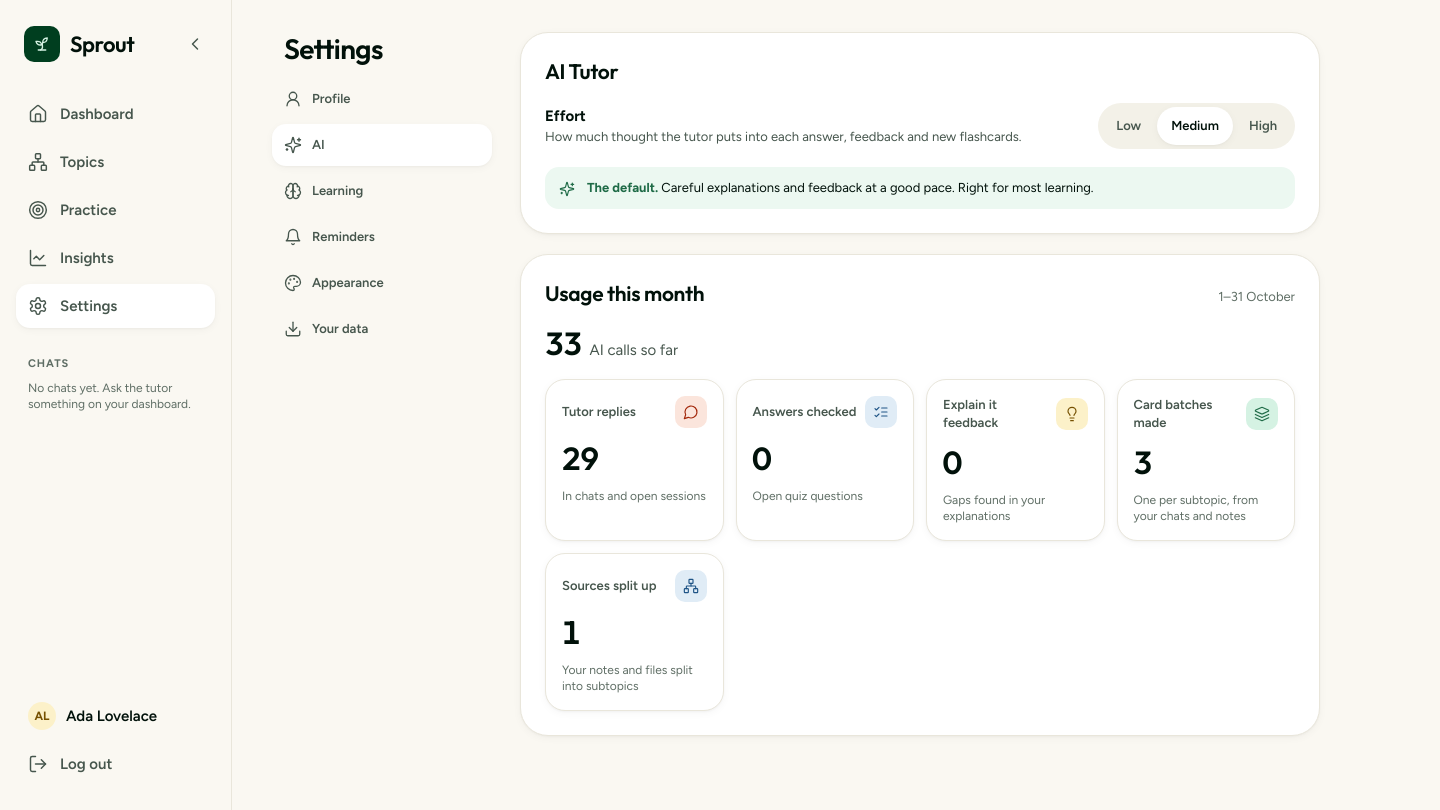
Test: AiSettings › saves a new effort straight away
Click the tab with test id "tab-high" at point(1263, 126), box [1235,107,1291,145]
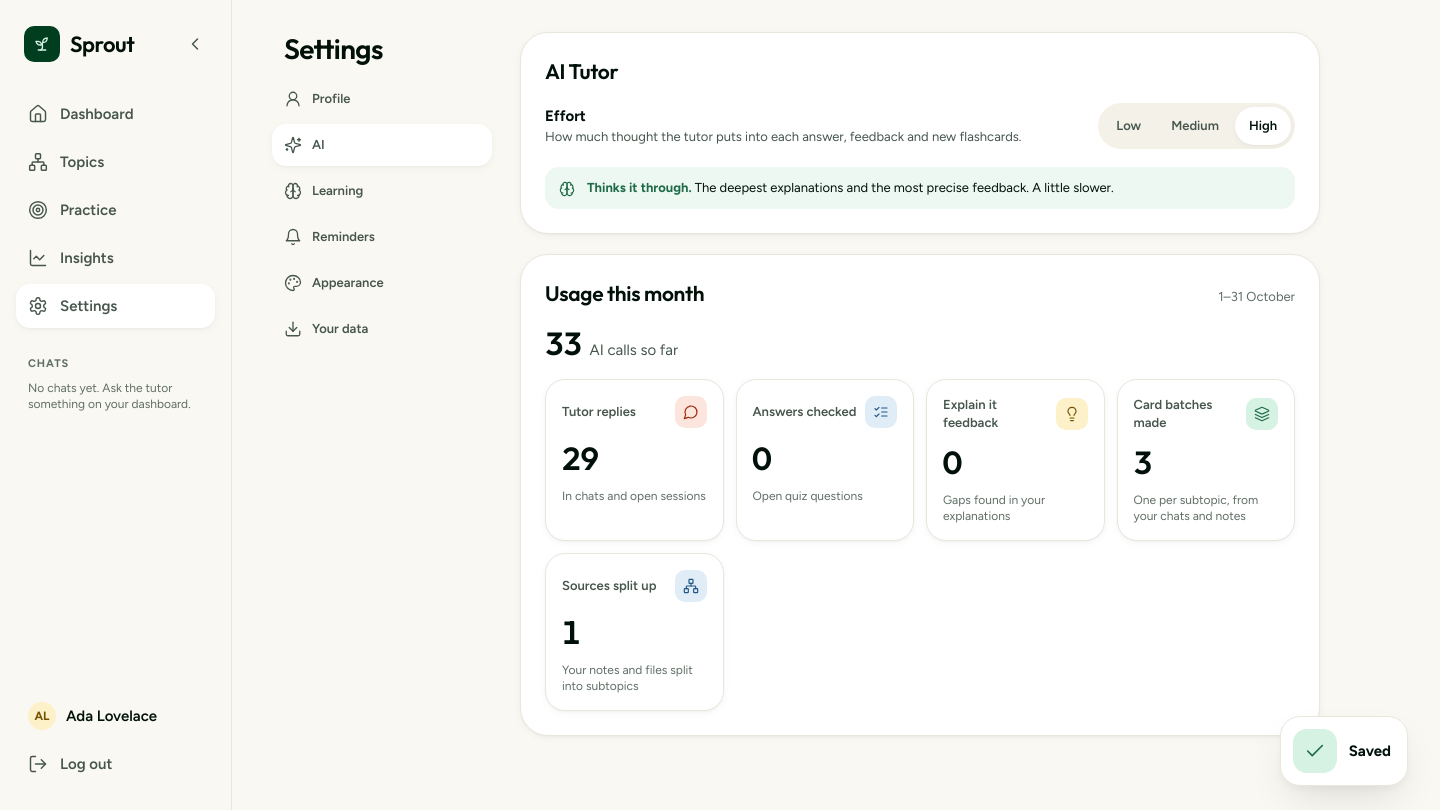
Result: the element with test id "effort-note" shows "Thinks it through." at [587,180,692,195]
Result: the text with test id "toast-title" reads "Saved" at [1349,742,1391,760]
